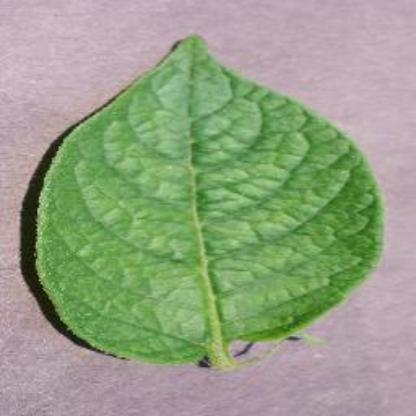Healthy-plant: (26, 30, 386, 378)
